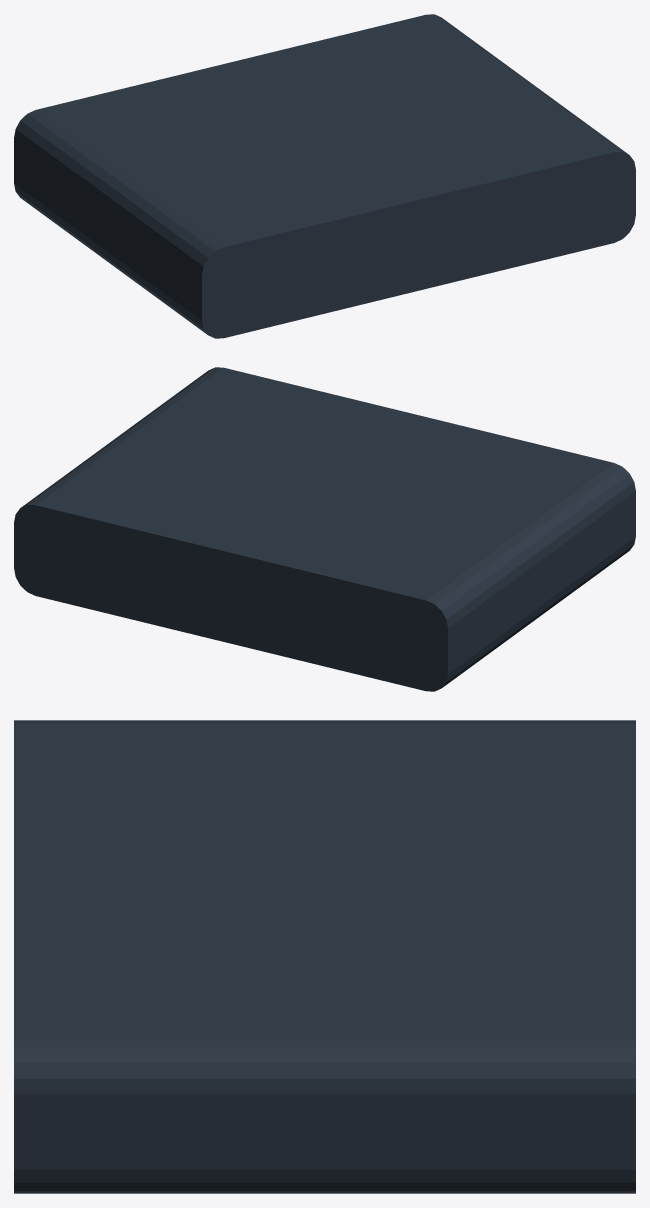
The model's file is beckman_coulter_biomek_i7_span8_channel.glb.
3 renders of one model, top to bottom at view 1: azimuth 30°, elevation 25°; view 2: azimuth 150°, elevation 25°; view 3: azimuth 270°, elevation 25°, orthographic. The views are drawn at different scales.
Visible parts, largest first — view 1: beckman_coulter_biomek_i7_span8_channel; view 2: beckman_coulter_biomek_i7_span8_channel; view 3: beckman_coulter_biomek_i7_span8_channel.
Part boxes in pixels (x1=…): beckman_coulter_biomek_i7_span8_channel: x1=14, y1=14, x2=635, y2=338; beckman_coulter_biomek_i7_span8_channel: x1=14, y1=367, x2=635, y2=691; beckman_coulter_biomek_i7_span8_channel: x1=14, y1=720, x2=635, y2=1193.
Bounding box in the file's own units: 0.04 × 0.008 × 0.03.
